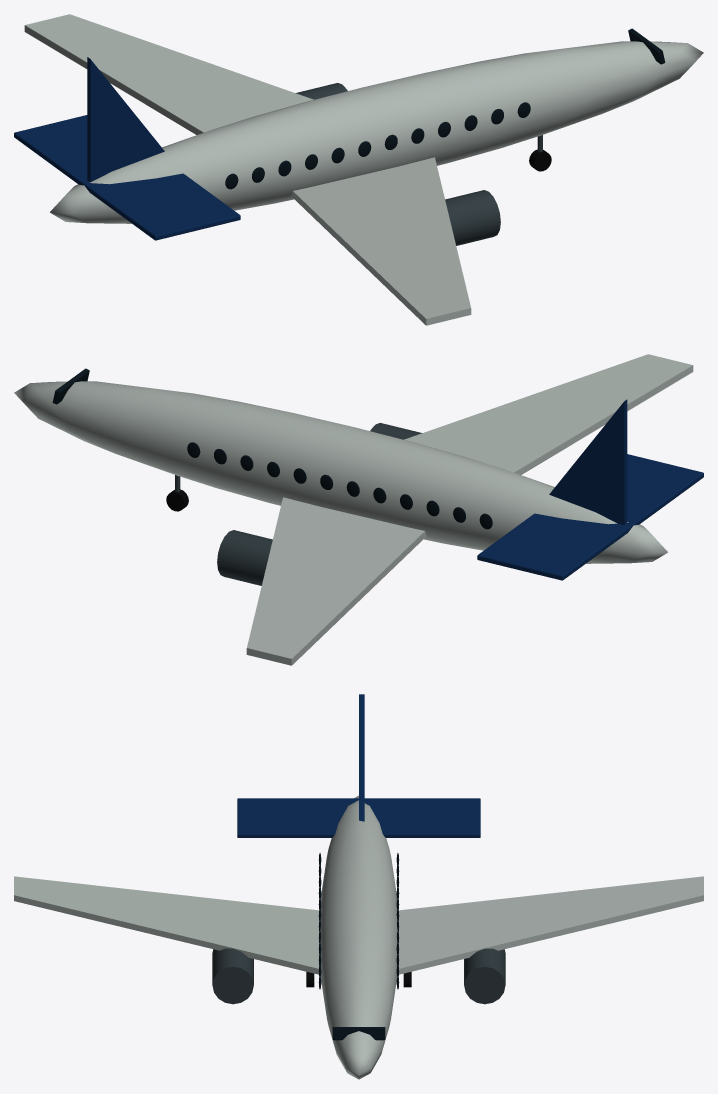
Rendered from CivilAirplane.fbx.
The picture shows the model from 3 angles, top to bottom: view 1: azimuth 30°, elevation 25°; view 2: azimuth 150°, elevation 25°; view 3: azimuth 270°, elevation 25°; orthographic projection. The views are drawn at different scales.
Visible parts, largest first — view 1: CivilAirplane; view 2: CivilAirplane; view 3: CivilAirplane.
Part boxes in pixels (x1=…): CivilAirplane: x1=14, y1=14, x2=703, y2=325; CivilAirplane: x1=14, y1=354, x2=703, y2=665; CivilAirplane: x1=14, y1=694, x2=703, y2=1079.
Bounding box in the file's own units: 1600 × 1700 × 515.
